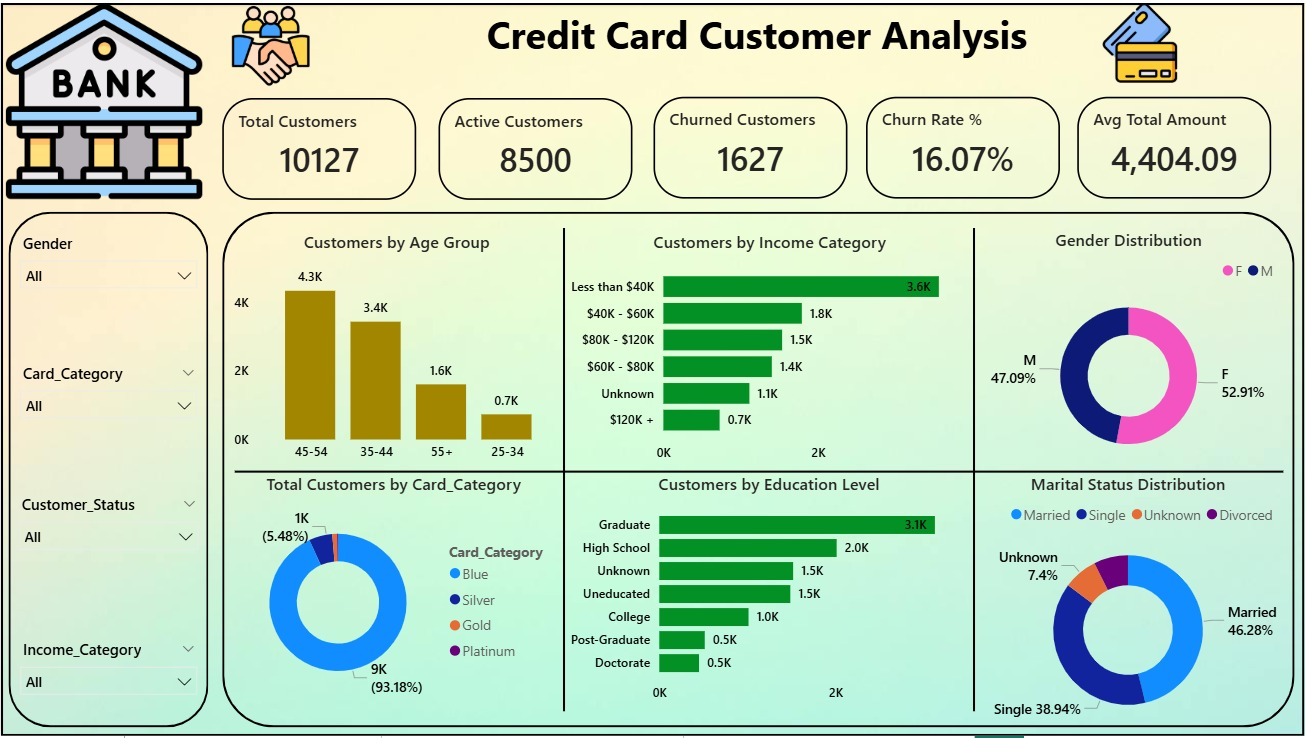

Layout of this report page (visuals, bound fields, positions):
{"tool":"powerbi","page":{"name":"Credit Card Customer Analysis","canvas":[1280,720],"ordinal":0},"visuals":[{"type":"shape","box":[0,0,1279.3,719.5],"z":0},{"type":"textbox","box":[204.9,0,1074.4,81.7],"z":1000,"group":"g1"},{"type":"shape","box":[217.1,204.9,1052.4,506.1],"z":1000},{"type":"group","id":"g1","title":"Group 1","box":[204.9,0,1074.4,81.7],"z":2000},{"type":"shape","box":[7.3,204.9,196.3,506.1],"z":3000},{"type":"card","title":"Total Customers","fields":{"Values":["Measure.Total Customers"]},"box":[217.1,92.7,190.2,100],"z":4000},{"type":"card","title":"Active Customers","fields":{"Values":["Measure.Active Customers"]},"box":[429.3,92.7,190.2,100],"z":5000},{"type":"card","title":"Churned Customers","fields":{"Values":["Measure.Churned Customers"]},"box":[640.2,91.5,190.2,100],"z":6000},{"type":"card","title":"Churn Rate %","fields":{"Values":["Measure.Churn Rate %"]},"box":[848.8,91.5,190.2,100],"z":7000},{"type":"columnChart","title":"Customers by Age Group","fields":{"Category":["Dim_Customer.Age Group"],"Y":["Measure.Total Customers"]},"box":[223.2,223.2,330.5,235.4],"z":8000},{"type":"donutChart","title":"Gender Distribution","fields":{"Category":["Dim_Customer.Gender"],"Y":["Measure.Total Customers"]},"box":[956.1,220.7,302.4,239],"z":9000},{"type":"barChart","title":"Customers by Income Category","fields":{"Category":["Dim_Customer.Income_Category"],"Y":["Measure.Total Customers"]},"box":[553.7,223.2,402.4,236.6],"z":10000},{"type":"barChart","title":"Customers by Education Level","fields":{"Category":["Dim_Customer.Education_Level"],"Y":["Measure.Total Customers"]},"box":[553.7,459.8,401.2,235.4],"z":11000},{"type":"donutChart","fields":{"Category":["Dim_Card.Card_Category"],"Y":["meaures.Total Customers"]},"box":[217.1,459.8,336.6,235.4],"z":12000},{"type":"slicer","title":"Income Category","fields":{"Values":["Dim_Customer.Income_Category"]},"box":[8.5,619.5,193.9,91.5],"z":13000},{"type":"slicer","title":"Card Category","fields":{"Values":["Dim_Card.Card_Category"]},"box":[8.5,348.8,193.9,91.5],"z":14000},{"type":"slicer","fields":{"Values":["Dim_Customer.Gender"]},"box":[8.5,220.7,193.9,95.1],"z":15000},{"type":"slicer","title":"Customer Status","fields":{"Values":["Dim_Churn.Customer_Status"]},"box":[7.3,476.8,196.3,101.2],"z":16000},{"type":"card","title":"Avg Total Amount","fields":{"Values":["meaures.Avg Total Transaction Amount"]},"box":[1056.1,91.5,190.2,100],"z":17000},{"type":"donutChart","title":"Marital Status Distribution","fields":{"Category":["Dim_Customer.Marital_Status"],"Y":["meaures.Total Customers"]},"box":[954.9,459.8,303.7,259.8],"z":18000},{"type":"image","box":[0,0,202.4,192.7],"z":19000},{"type":"image","box":[1067.1,0,101.2,78],"z":20000},{"type":"image","box":[217.1,2.4,95.1,79.3],"z":21000},{"type":"shape","box":[534.1,220.7,37.8,474.4],"z":22000},{"type":"shape","box":[936.6,220.7,37.8,474.4],"z":23000},{"type":"shape","box":[229.3,440.2,1029.3,39],"z":24000}]}

Visuals, with their boxes in screenshot pixels (x1, y1, x2, y2), scaled from the page's 1280x720 canvas onto the 1305x738 screenshot:
shape: (left=0, top=0, right=1304, bottom=737)
textbox: (left=209, top=0, right=1304, bottom=84)
shape: (left=221, top=210, right=1294, bottom=729)
"Group 1" group: (left=209, top=0, right=1304, bottom=84)
shape: (left=7, top=210, right=208, bottom=729)
"Total Customers" card: (left=221, top=95, right=415, bottom=198)
"Active Customers" card: (left=438, top=95, right=632, bottom=198)
"Churned Customers" card: (left=653, top=94, right=847, bottom=196)
"Churn Rate %" card: (left=865, top=94, right=1059, bottom=196)
"Customers by Age Group" columnChart: (left=228, top=229, right=565, bottom=470)
"Gender Distribution" donutChart: (left=975, top=226, right=1283, bottom=471)
"Customers by Income Category" barChart: (left=565, top=229, right=975, bottom=471)
"Customers by Education Level" barChart: (left=565, top=471, right=974, bottom=713)
donutChart - Dim_Card.Card_Category x meaures.Total Customers: (left=221, top=471, right=565, bottom=713)
"Income Category" slicer: (left=9, top=635, right=206, bottom=729)
"Card Category" slicer: (left=9, top=358, right=206, bottom=451)
slicer - Dim_Customer.Gender: (left=9, top=226, right=206, bottom=324)
"Customer Status" slicer: (left=7, top=489, right=208, bottom=592)
"Avg Total Amount" card: (left=1077, top=94, right=1271, bottom=196)
"Marital Status Distribution" donutChart: (left=974, top=471, right=1283, bottom=737)
image: (left=0, top=0, right=206, bottom=198)
image: (left=1088, top=0, right=1191, bottom=80)
image: (left=221, top=2, right=318, bottom=84)
shape: (left=545, top=226, right=583, bottom=712)
shape: (left=955, top=226, right=993, bottom=712)
shape: (left=234, top=451, right=1283, bottom=491)
